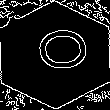O_W: (25, 33, 85, 77)
